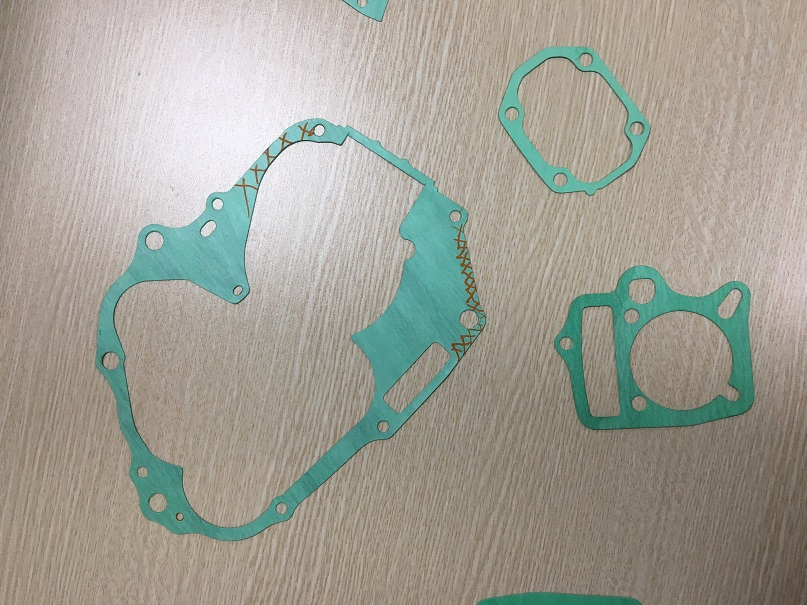type2: (492, 42, 656, 202)
type3: (84, 111, 486, 552)
type4: (541, 253, 764, 436)
